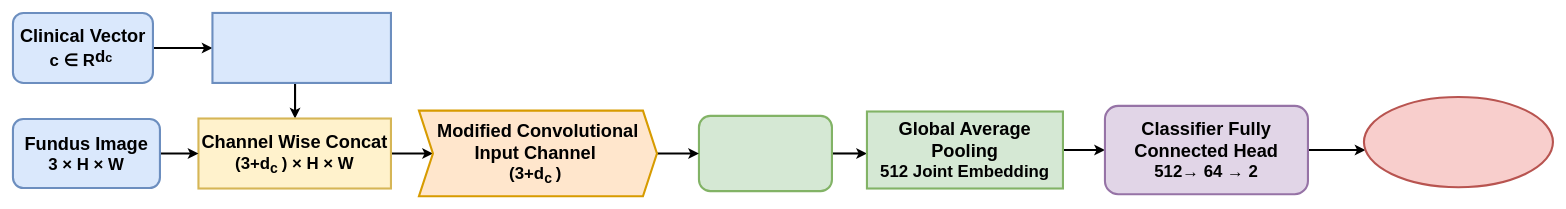
This 1566x209 diagram has some shape labels left out. Here are the shapes that lost their labels. From the top down, the centre of each, then its label:
point 301,48: Spatial Expansion d c × H × W
point 765,153: ResNet18
point 1458,142: Output Head Healthy vs Glaucoma
